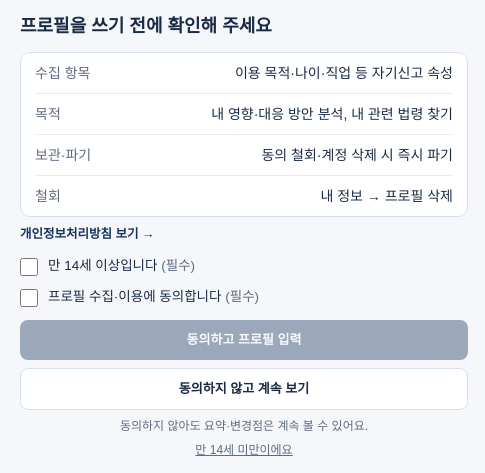
Test: ConsentScreen › 처음 동의 — 두 항목을 모두 체크해야 보내고, 동의 후 프로필로(돌아올 경로가 없으면 그다음은 홈)
Expected: the button "동의하고 프로필 입력" is disabled, [20, 320, 468, 360]
Expected: the text "내 영향·대응 방안 분석, 내 관련 법령 찾기" is shown, [211, 104, 453, 124]
Click the checkbox labelled "만 14세 이상입니다 (필수)" at point(29, 267), box [20, 258, 38, 276]
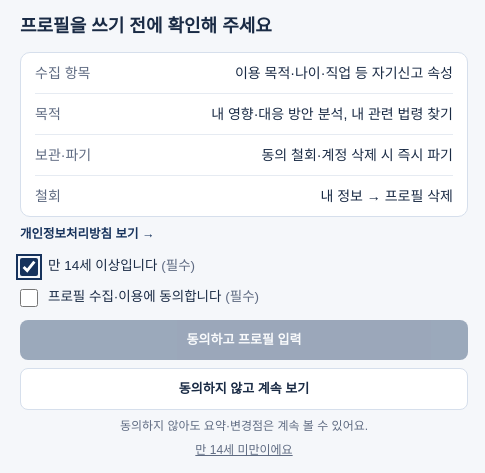
Click the checkbox labelled "프로필 수집·이용에 동의합니다 (필수)" at point(29, 298), box [20, 289, 38, 307]
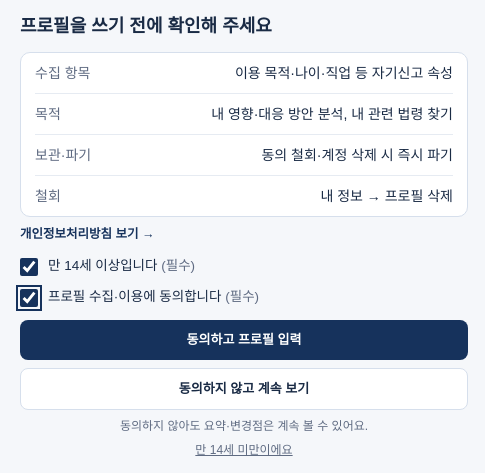
Click the button "동의하고 프로필 입력" at point(244, 340), box [20, 320, 468, 360]
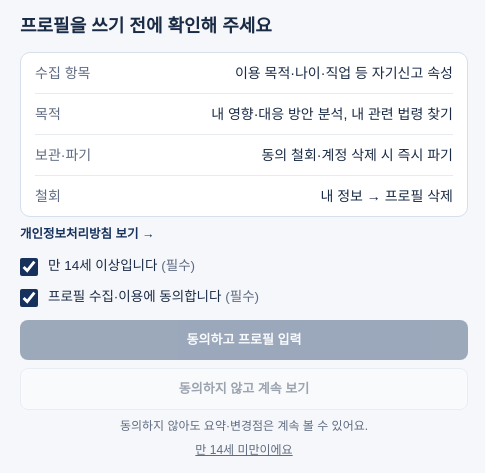
Expected: the button "동의하지 않고 계속 보기" is disabled, [20, 368, 468, 410]
